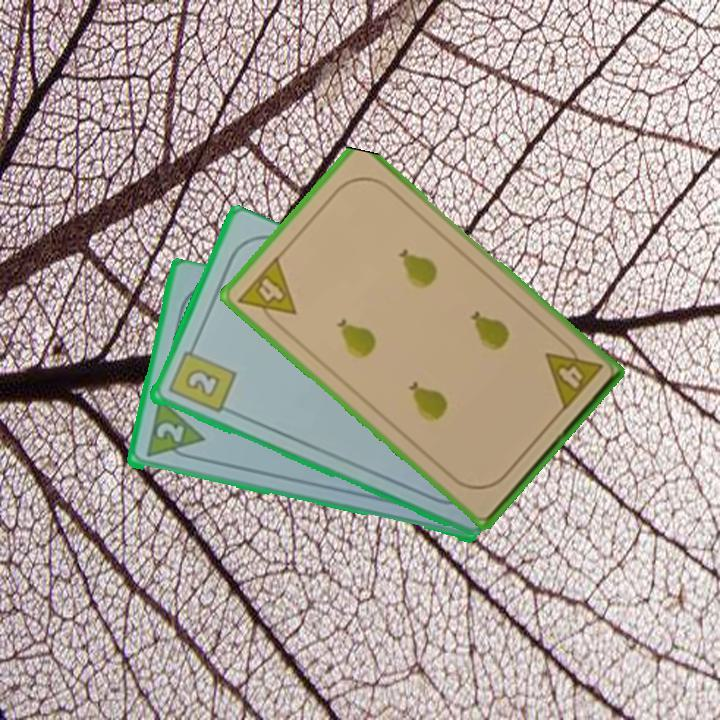2b: (164, 340, 238, 417)
2p: (152, 419, 187, 446)
4p: (234, 252, 300, 333), (541, 335, 605, 414)
